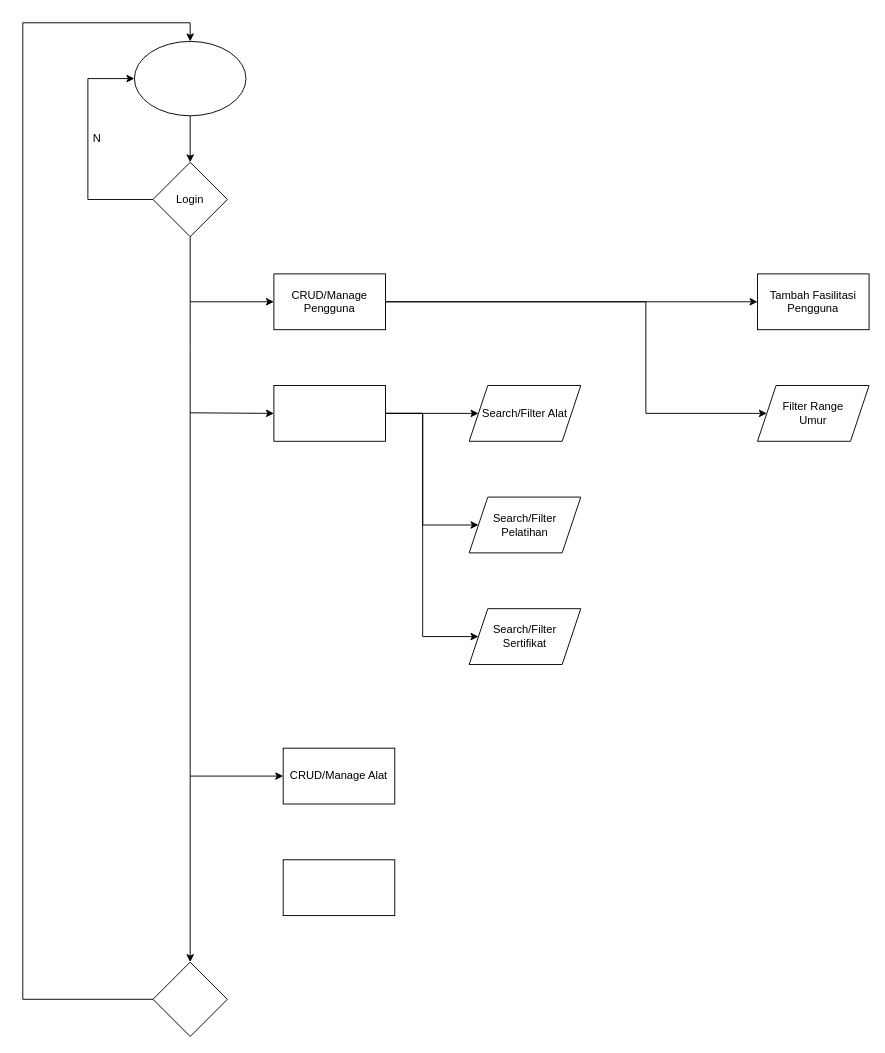
Image size: 885x1053. Some labels were removed from this diagram. The box of each missing label's shape, as (x1, y1, x2, y2) in pixels:
Fasilitasi: (273, 385, 385, 441)
Laporan: (282, 859, 395, 916)
Logout: (152, 961, 227, 1036)
Mulai: (133, 40, 246, 116)
